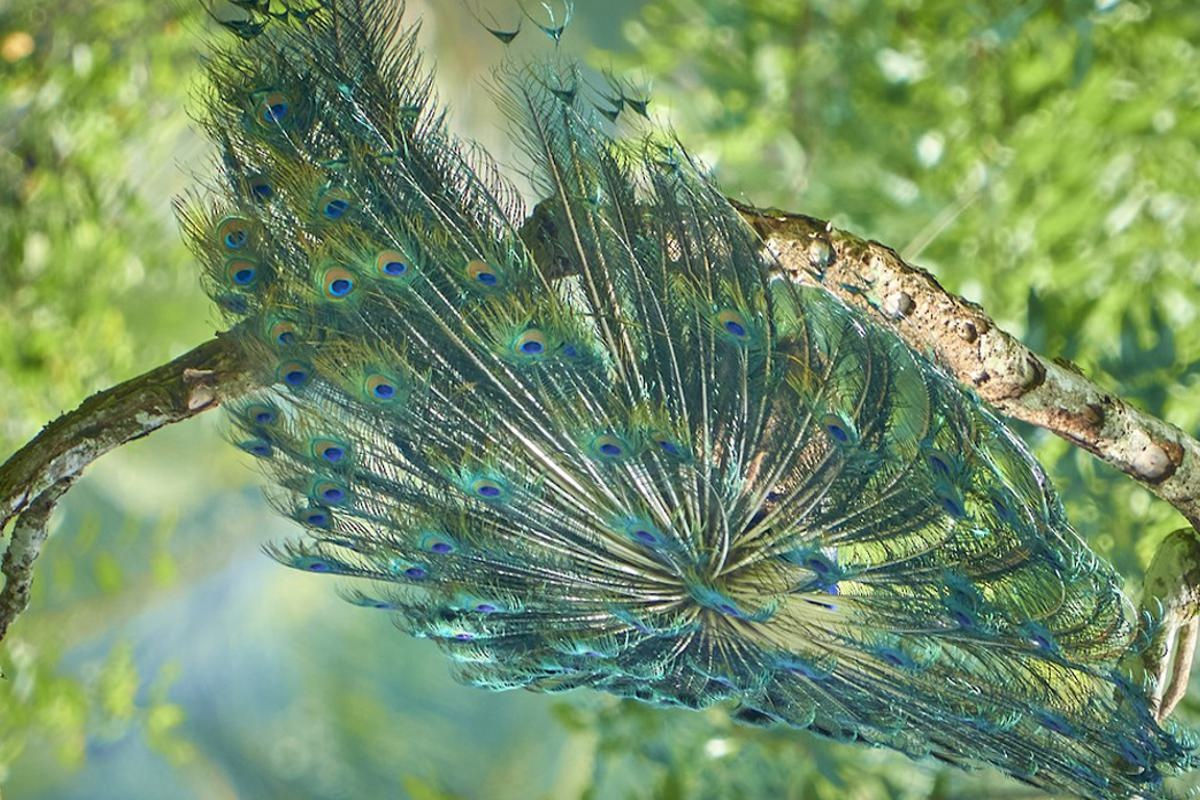peacock: (200, 66, 1046, 766)
